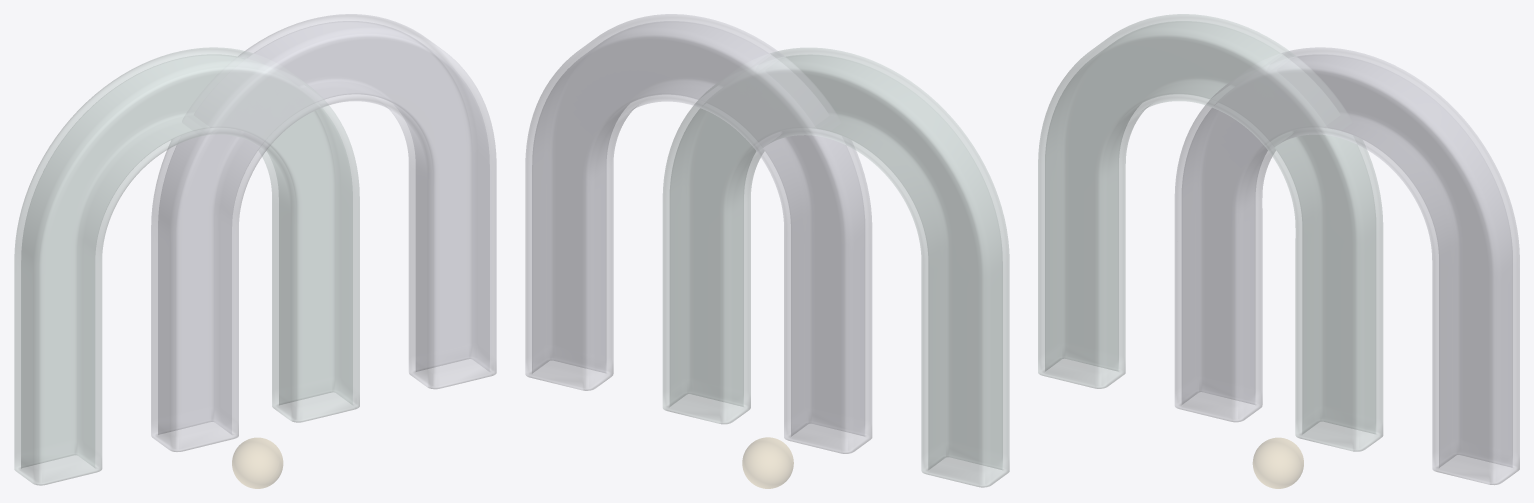
The model's file is neighbour-glass-rainbow-v5.glb.
The picture shows the model from 3 angles, left to right: view 1: azimuth 30°, elevation 25°; view 2: azimuth 150°, elevation 25°; view 3: azimuth 330°, elevation 25°; orthographic projection.
Parts seen in each view (by area): view 1: Mint connected hollow glass arch, Violet connected hollow glass arch, Amber glass dot; view 2: Mint connected hollow glass arch, Violet connected hollow glass arch, Amber glass dot; view 3: Violet connected hollow glass arch, Mint connected hollow glass arch, Amber glass dot.
Part boxes in pixels (x1,y1,x2,y2): Mint connected hollow glass arch: (14,47,359,485); Violet connected hollow glass arch: (151,14,496,451); Amber glass dot: (232,438,282,488); Mint connected hollow glass arch: (663,48,1009,487); Violet connected hollow glass arch: (525,14,871,453); Amber glass dot: (742,437,793,488); Violet connected hollow glass arch: (1175,47,1519,484); Mint connected hollow glass arch: (1038,14,1382,451); Amber glass dot: (1253,438,1303,488).
Size of the model in its own units: 5.82 by 5.33 by 0.6.
